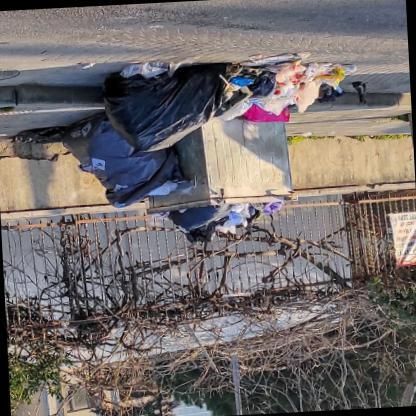Garbage: (207, 36, 366, 130), (115, 46, 238, 152), (67, 112, 158, 210), (170, 194, 280, 244), (267, 52, 319, 92), (320, 58, 355, 89), (175, 206, 213, 234), (259, 96, 311, 109), (121, 136, 160, 152)
